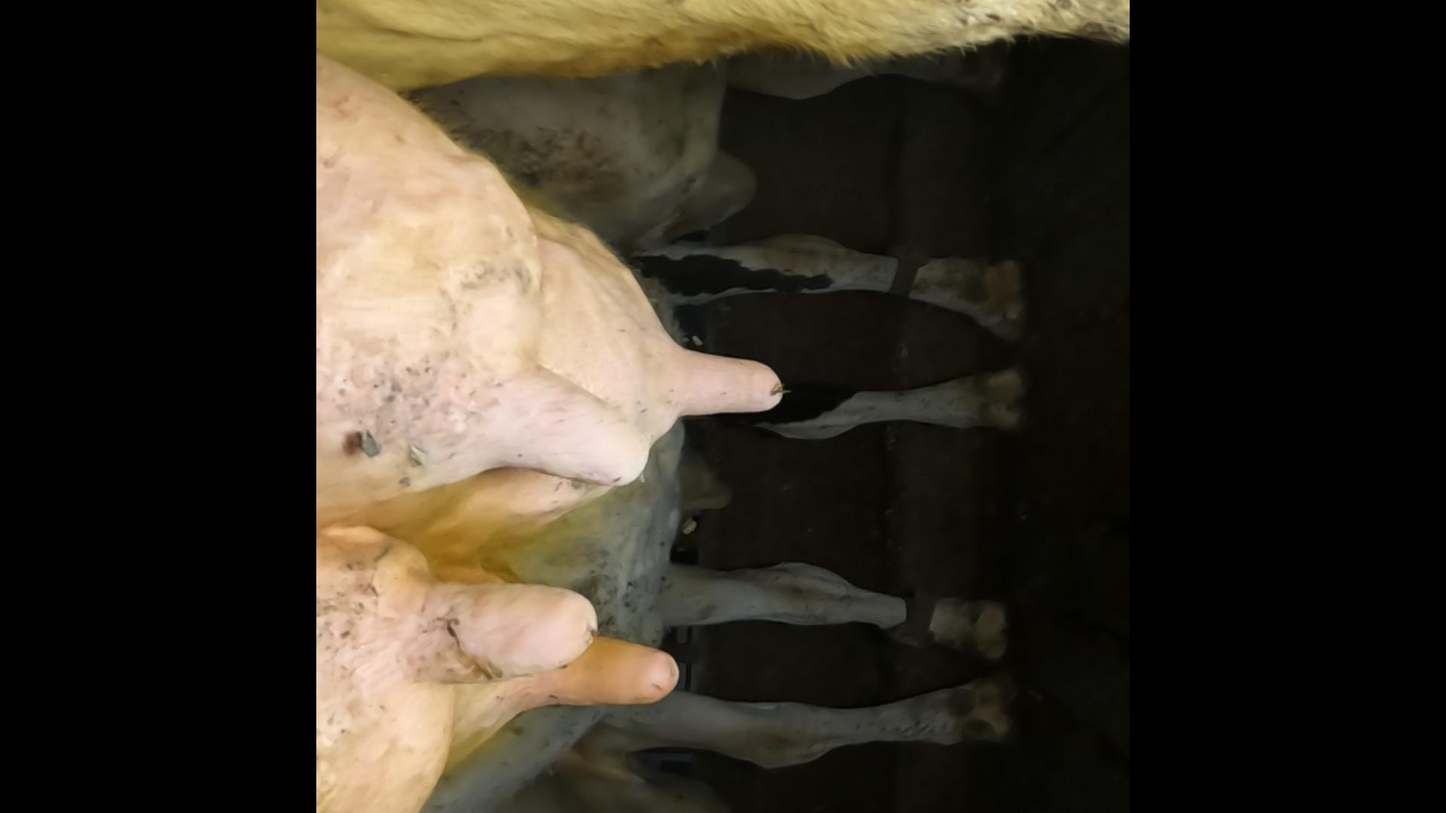Zitze: (477, 359, 668, 516), (395, 576, 607, 700), (635, 317, 804, 437), (527, 640, 698, 721)
